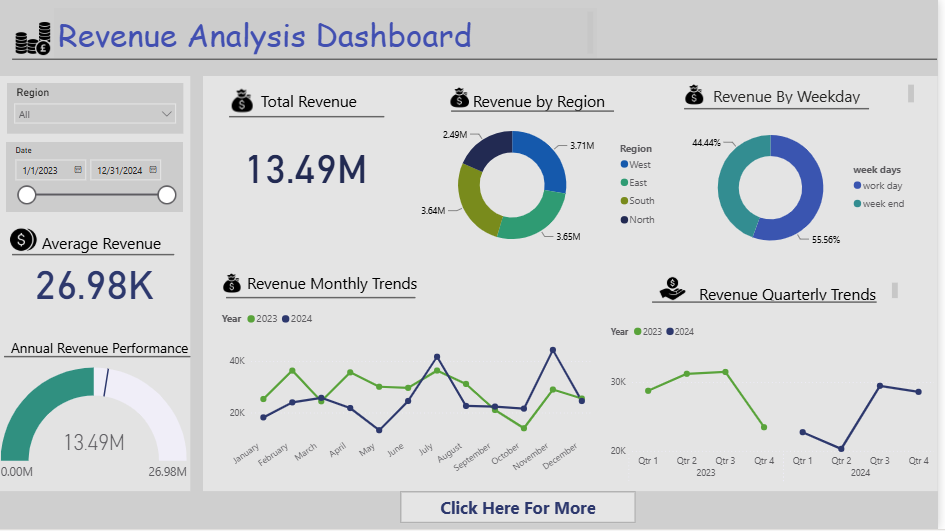

The page's visual inventory and layout, read from the dashboard file:
{"tool":"powerbi","page":{"name":"Dashboard","canvas":[1280,720],"ordinal":0},"visuals":[{"type":"shape","box":[279.9,102.9,1000.3,565.4],"z":0},{"type":"textbox","box":[77.5,11.1,739.1,67.8],"z":1000},{"type":"shape","box":[19.8,74.4,1259.3,11.6],"z":2000},{"type":"textbox","box":[329.3,365,267.6,65.9],"z":3000},{"type":"shape","box":[311.5,387,258,37],"z":4000},{"type":"image","box":[301.2,339.5,38.4,94.2],"z":5000},{"type":"image","box":[20.8,0,56.7,102.4],"z":6000},{"type":"donutChart","fields":{"Category":["Sheet1.Region"],"Y":["Sum(Sheet1.Revenue)"]},"box":[549.3,146.4,366.6,209.7],"z":7000},{"type":"shape","box":[4.1,102.9,259.3,565.4],"z":8000},{"type":"donutChart","fields":{"Category":["Sheet1.week days "],"Y":["Sum(Sheet1.Revenue)"]},"box":[934.5,138.6,322.5,233.3],"z":9000},{"type":"card","fields":{"Values":["Avg(Sheet1.Revenue)"]},"box":[0,333.4,264.8,94.7],"z":10000},{"type":"card","title":"Total Revenue","fields":{"Values":["Sum(Sheet1.Revenue)"]},"box":[301.2,177.9,238.4,88.4],"z":11000},{"type":"textbox","box":[339.5,117.4,170.9,43],"z":12000},{"type":"image","box":[311.6,111.6,44.2,52.3],"z":13000},{"type":"shape","box":[315.1,139.5,211.6,37.2],"z":14000},{"type":"image","box":[930,82,38.7,94.9],"z":15000},{"type":"shape","box":[934.9,129.1,252.3,37.2],"z":16000},{"type":"textbox","box":[968.6,110.5,283.7,36],"z":17000},{"type":"textbox","box":[56.3,310.1,182.5,46.7],"z":18000},{"type":"shape","box":[20.6,328,220.9,37],"z":19000},{"type":"image","box":[9.6,286.8,52.1,78.2],"z":20000},{"type":"textbox","box":[643,117.4,201.2,48.8],"z":21000},{"type":"shape","box":[617.4,132.6,222.1,38.4],"z":22000},{"type":"image","box":[609.3,86,39.5,95.3],"z":23000},{"type":"slicer","fields":{"Values":["Sheet1.Region"]},"box":[13.7,112.5,240.1,68.6],"z":24000},{"type":"slicer","fields":{"Values":["Sheet1.Date"]},"box":[12.3,193.5,240.1,94.7],"z":25000},{"type":"shape","box":[891.9,391.9,305.8,38.4],"z":26000},{"type":"textbox","box":[949.6,380.1,281.3,34.3],"z":27000},{"type":"actionButton","box":[548.9,668.3,321.1,43.9],"z":28000},{"type":"image","box":[882.3,370.5,75.5,45.3],"z":29000},{"type":"lineChart","fields":{"Y":["Avg(Sheet1.Revenue)"],"Category":["Sheet1.Date.Variation.Date Hierarchy.Month"],"Series":["Sheet1.Date.Variation.Date Hierarchy.Year"]},"box":[300.5,414.4,516,251.1],"z":30000},{"type":"lineChart","fields":{"Y":["Avg(Sheet1.Revenue)"],"Category":["Sheet1.Date.Variation.Date Hierarchy.Year","Sheet1.Date.Variation.Date Hierarchy.Quarter"],"Series":["Sheet1.Date.Variation.Date Hierarchy.Year"]},"box":[830.2,430.9,450.1,234.6],"z":31000},{"type":"gauge","fields":{"Y":["Sheet1.Total Revenue"],"TargetValue":["Sheet1.Revenue Target"]},"box":[0,489.9,263.5,178.4],"z":32000},{"type":"textbox","box":[13.7,455.6,263.5,48],"z":33000},{"type":"shape","box":[9.6,466.6,253.9,37],"z":34000}]}

Visuals, with their boxes in screenshot pixels (x1, y1, x2, y2), scaled from the page's 1280x720 canvas onto the 945x531 screenshot:
shape: detection(207, 76, 944, 493)
textbox: detection(57, 8, 603, 58)
shape: detection(15, 55, 944, 63)
textbox: detection(243, 269, 441, 318)
shape: detection(230, 285, 420, 313)
image: detection(222, 250, 251, 320)
image: detection(15, 0, 57, 76)
donutChart - Sheet1.Region x Sum(Sheet1.Revenue): detection(406, 108, 676, 263)
shape: detection(3, 76, 194, 493)
donutChart - Sheet1.week days  x Sum(Sheet1.Revenue): detection(690, 102, 928, 274)
card - Avg(Sheet1.Revenue): detection(0, 246, 195, 316)
"Total Revenue" card: detection(222, 131, 398, 196)
textbox: detection(251, 87, 377, 118)
image: detection(230, 82, 263, 121)
shape: detection(233, 103, 389, 130)
image: detection(687, 60, 715, 130)
shape: detection(690, 95, 876, 123)
textbox: detection(715, 81, 925, 108)
textbox: detection(42, 229, 176, 263)
shape: detection(15, 242, 178, 269)
image: detection(7, 212, 46, 269)
textbox: detection(475, 87, 623, 123)
shape: detection(456, 98, 620, 126)
image: detection(450, 63, 479, 134)
slicer - Sheet1.Region: detection(10, 83, 187, 134)
slicer - Sheet1.Date: detection(9, 143, 186, 213)
shape: detection(658, 289, 884, 317)
textbox: detection(701, 280, 909, 306)
actionButton: detection(405, 493, 642, 525)
image: detection(651, 273, 707, 307)
lineChart - Avg(Sheet1.Revenue) x Sheet1.Date.Variation.Date Hierarchy.Month: detection(222, 306, 603, 491)
lineChart - Avg(Sheet1.Revenue) x Sheet1.Date.Variation.Date Hierarchy.Year: detection(613, 318, 944, 491)
gauge - Sheet1.Total Revenue x Sheet1.Revenue Target: detection(0, 361, 195, 493)
textbox: detection(10, 336, 205, 371)
shape: detection(7, 344, 195, 371)
